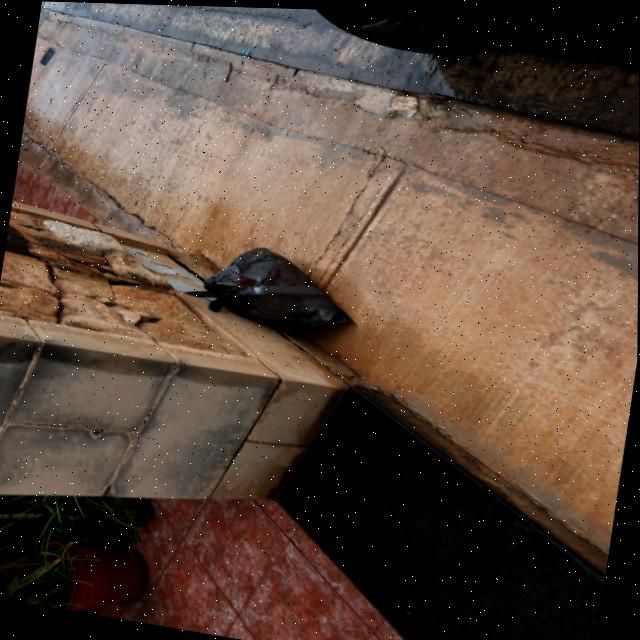Mixed Waste -Black Bag-: (183, 234, 367, 338)
